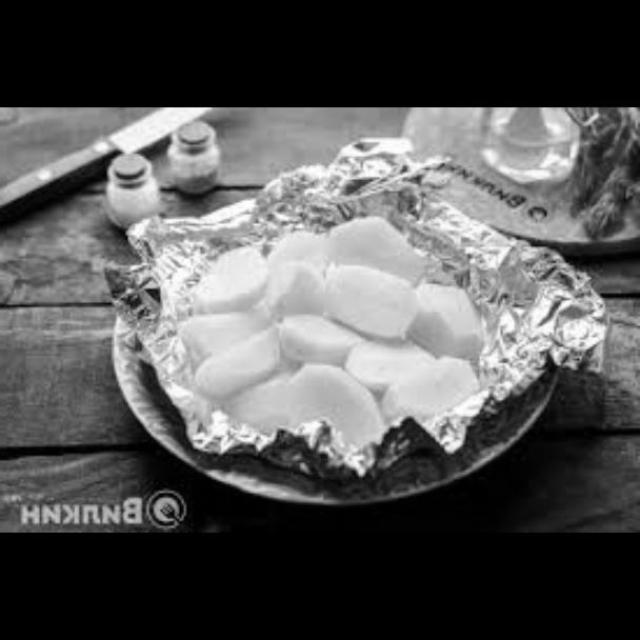khoai tay: (186, 198, 508, 434)
